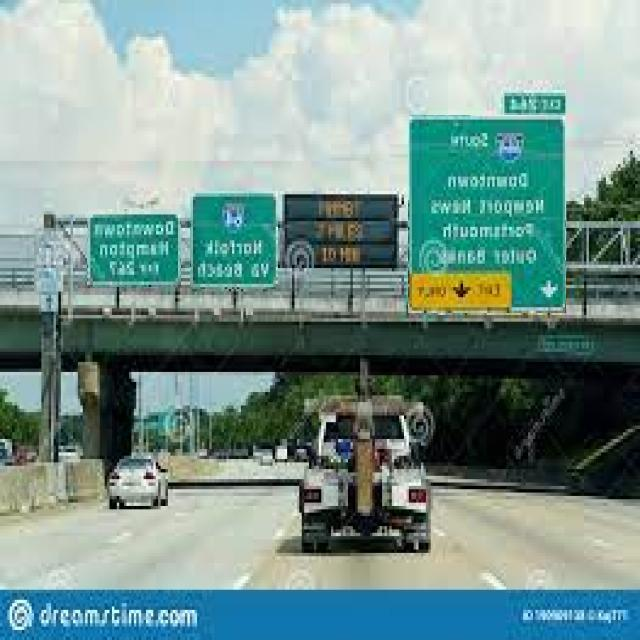street-signs: (408, 116, 566, 313), (190, 192, 278, 289), (87, 210, 181, 287), (503, 90, 566, 117)
